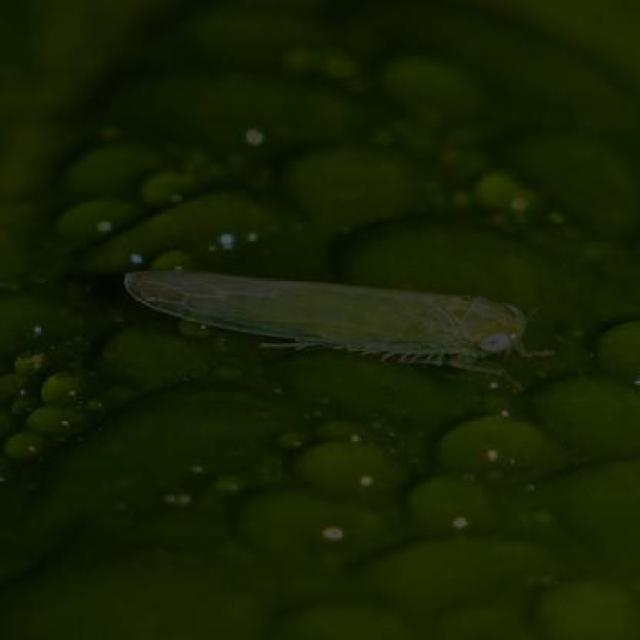green-leafhopper: (126, 266, 528, 376)
